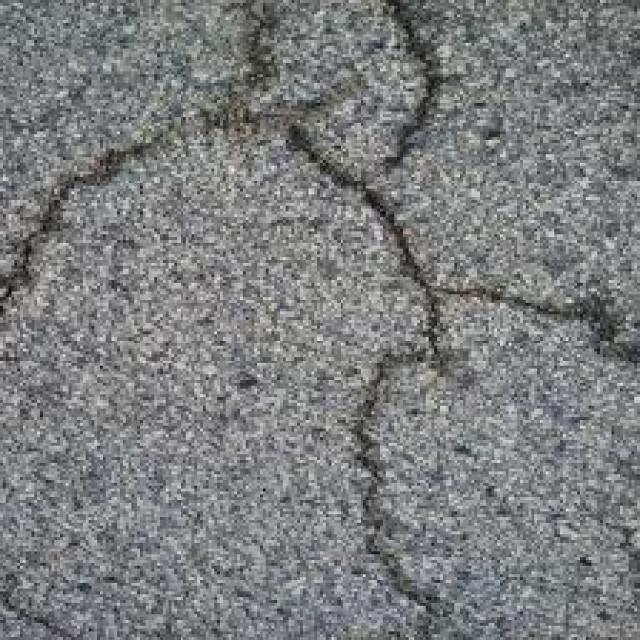SurfaceCrack: (82, 6, 622, 594)
